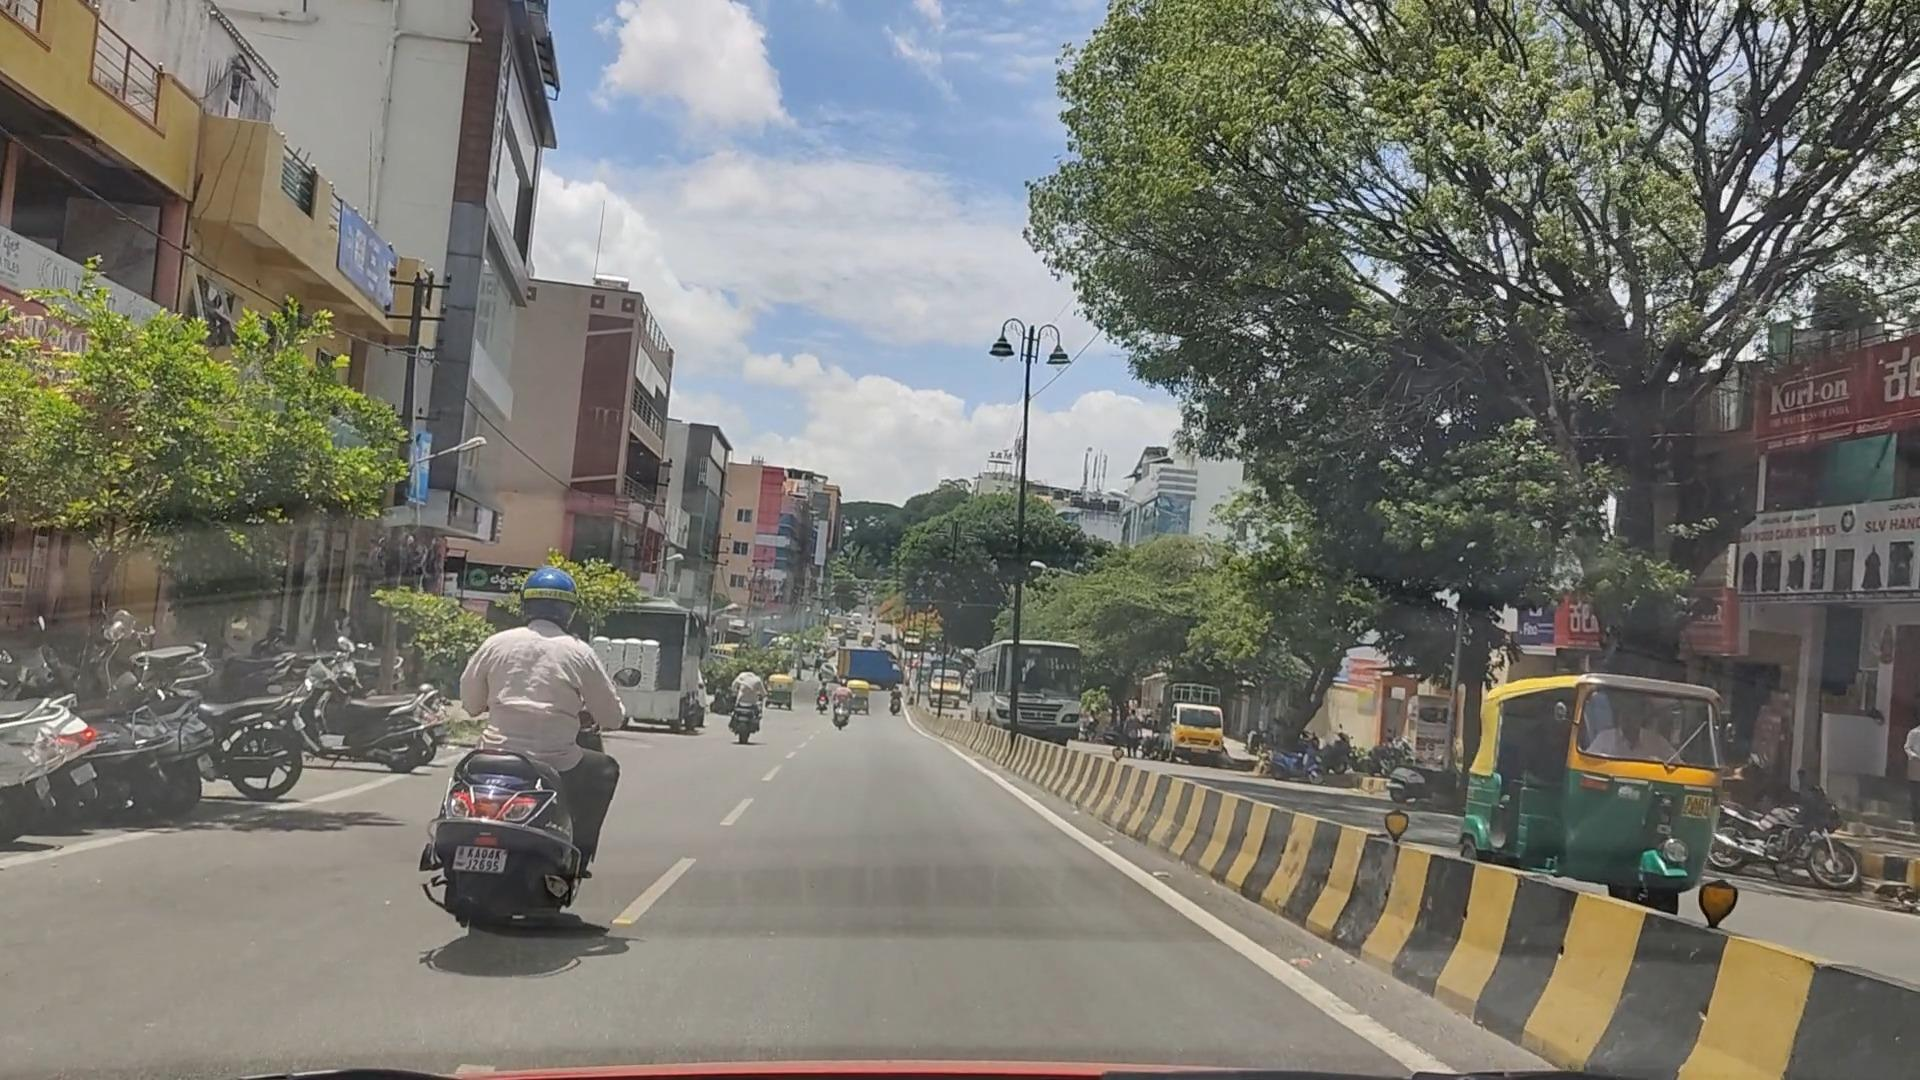LMV: (435, 553, 632, 964)
